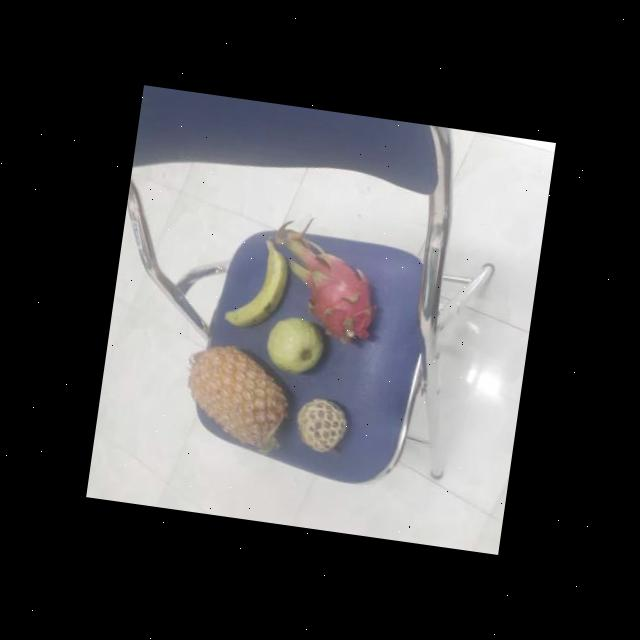Sakya fruit: (290, 396, 349, 461)
banana: (218, 240, 292, 335)
guava: (260, 313, 328, 382)
pineapple: (178, 342, 296, 457)
pitaya: (296, 254, 378, 350)
